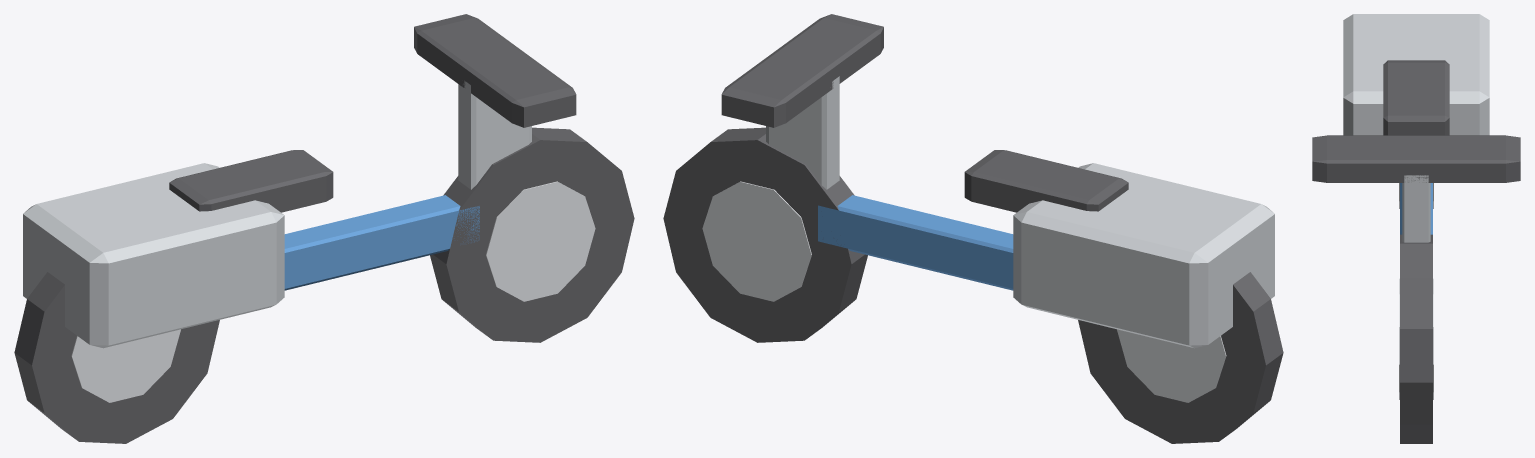
Rendered from b03_longtail_family_cargo_bicycle.glb.
3 renders of one model, left to right at view 1: azimuth 30°, elevation 25°; view 2: azimuth 150°, elevation 25°; view 3: azimuth 270°, elevation 25°, orthographic. The views are drawn at different scales.
Visible parts, largest first — view 1: b03_longtail_family_cargo_bicycle; view 2: b03_longtail_family_cargo_bicycle; view 3: b03_longtail_family_cargo_bicycle.
Part boxes in pixels (x1,y1,x2,y2): b03_longtail_family_cargo_bicycle: (14, 14, 634, 443); b03_longtail_family_cargo_bicycle: (663, 14, 1283, 443); b03_longtail_family_cargo_bicycle: (1312, 14, 1520, 443).
Size of the model in its own units: 2.34 by 1.06 by 0.74.
